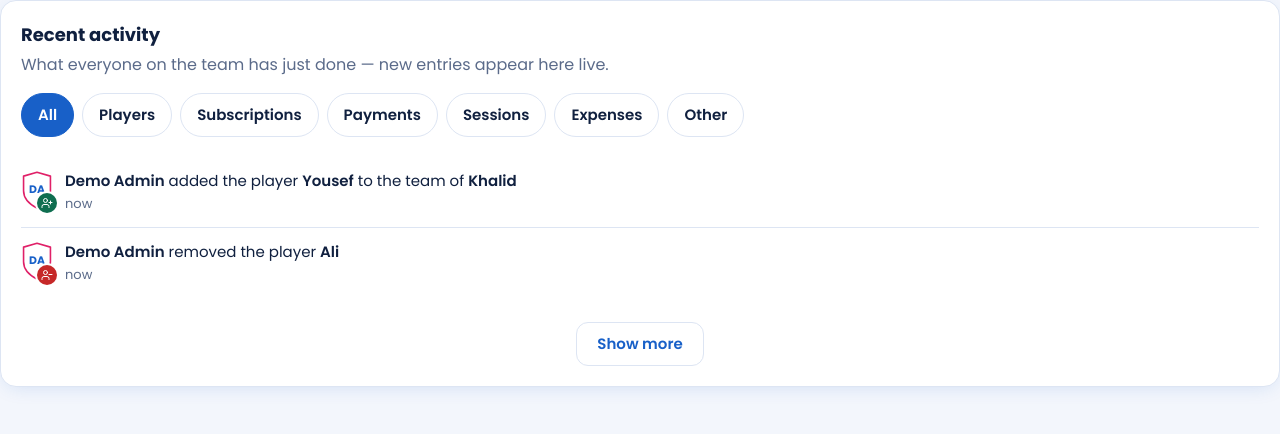
Scenario: ActivityFeed › loads the next page from where the last one ended
The image size is (1280, 434).
Click the button "Show more". click: {"x": 640, "y": 344}
box: x1=576 y1=322 x2=704 y2=366
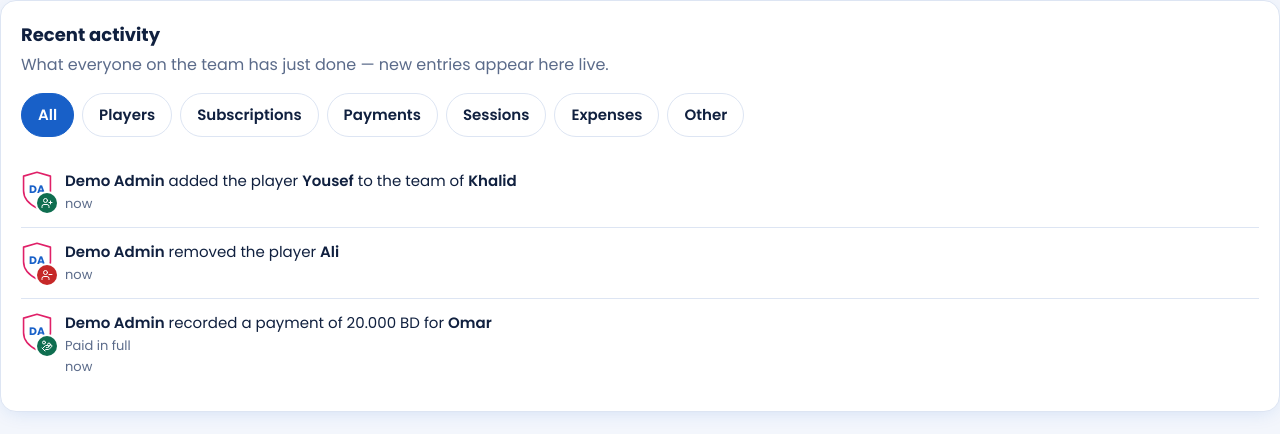
Now the number of list items is 3, box x1=21 y1=157 x2=1259 y2=228; x1=21 y1=228 x2=1259 y2=299; x1=21 y1=312 x2=492 y2=376
Now the button "Show more" is gone
